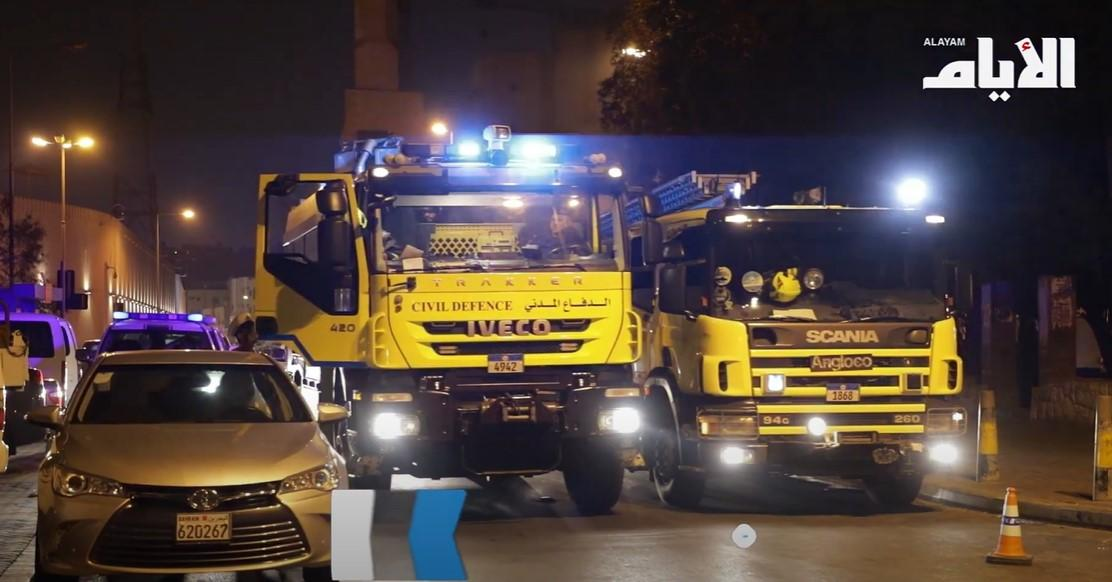firetruck_on: (250, 128, 642, 516), (649, 168, 965, 509)
